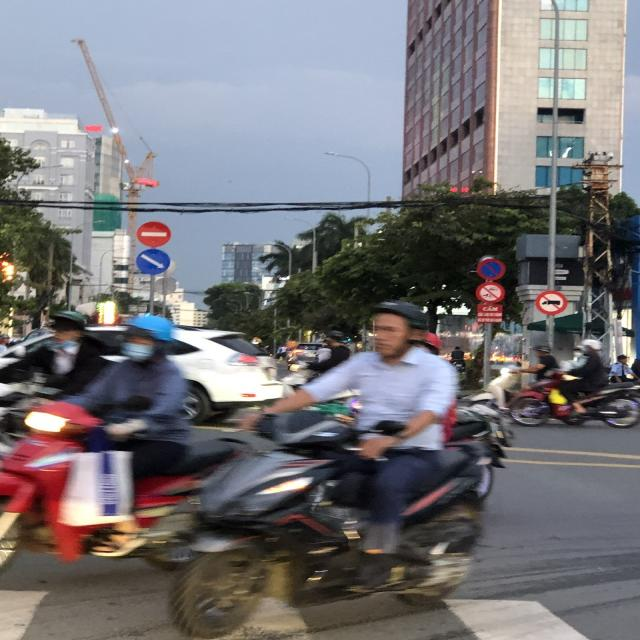Bien bao cam di nguoc chieu: (133, 219, 175, 248)
Bien bao cam do xe: (473, 256, 506, 280)
Bien bao cam xe so-mi ro-mooc: (532, 288, 570, 316)
Bien bao huong phai di vong chuong ngai vat: (132, 246, 172, 277)
